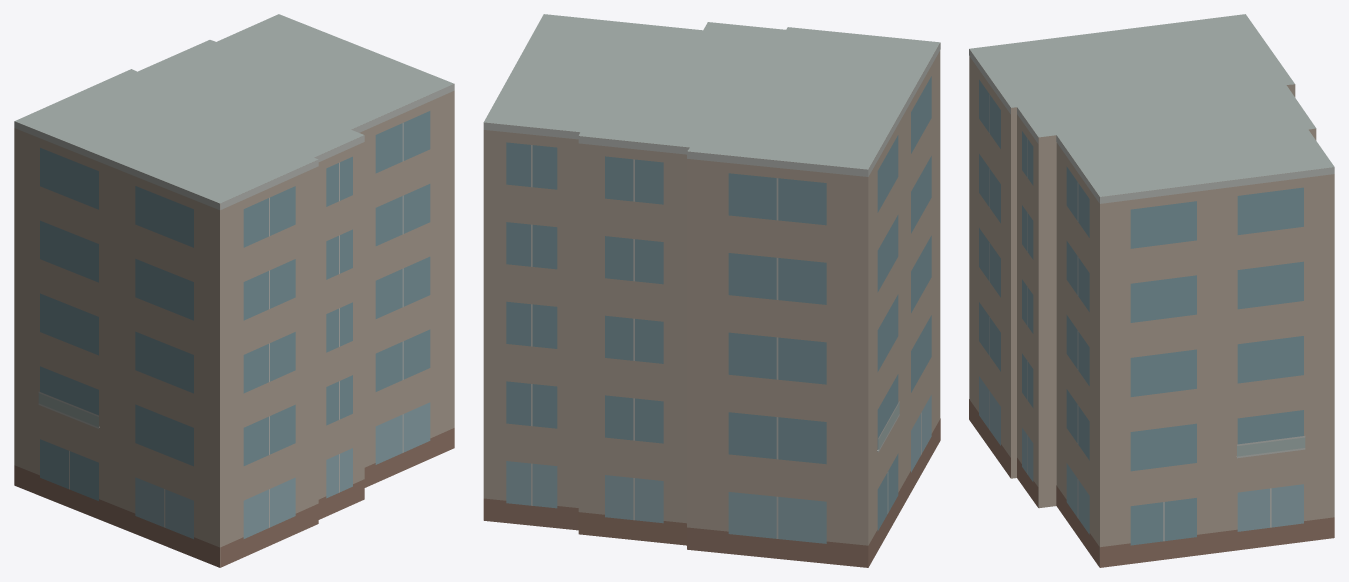
File: survey-upis-32646830.glb
3 views of the same model, side by side, from view 1: azimuth 30°, elevation 25°; view 2: azimuth 150°, elevation 25°; view 3: azimuth 270°, elevation 25° (orthographic). The views are drawn at different scales.
Visible parts, largest first — view 1: survey-upis-32646830.tmp; view 2: survey-upis-32646830.tmp; view 3: survey-upis-32646830.tmp.
Boxes of the visible parts, bbox=[...] form: survey-upis-32646830.tmp: bbox=[14, 14, 454, 567]; survey-upis-32646830.tmp: bbox=[483, 14, 940, 567]; survey-upis-32646830.tmp: bbox=[969, 14, 1334, 567].
Bounding box in the file's own units: 13.88 × 13.1 × 11.71.
